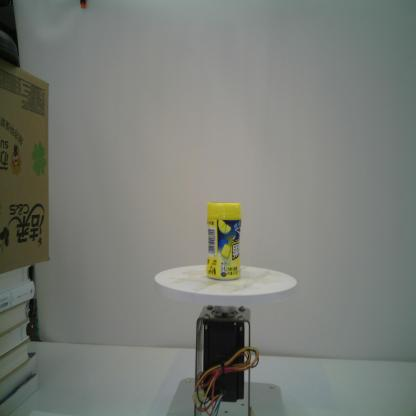Gum: (205, 201, 243, 281)
